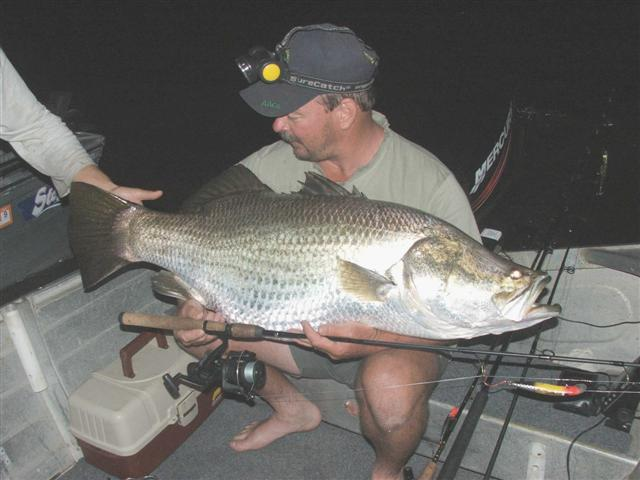Mulut: (484, 256, 588, 342)
Sirip Anal: (139, 258, 211, 308)
Sirip Dada: (325, 246, 407, 318)
Sirip Ekor: (49, 169, 152, 297)
Sirip Punggung: (172, 146, 380, 220)
